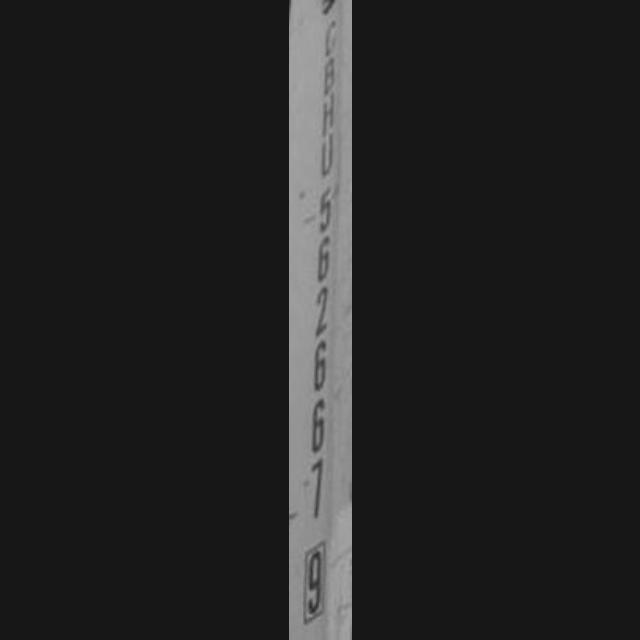2: (310, 284, 340, 344)
5: (311, 184, 339, 236)
6: (303, 393, 337, 459), (305, 339, 335, 393), (309, 237, 339, 286)
7: (304, 456, 332, 524)
9: (300, 544, 328, 620)
b: (311, 53, 347, 99)
c: (315, 13, 343, 63)
h: (308, 98, 348, 136)
u: (314, 134, 342, 180)
